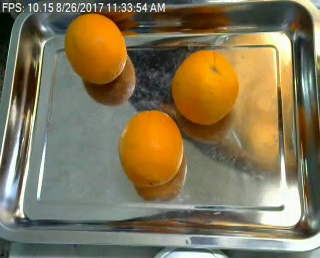Orange: (119, 110, 184, 189), (172, 48, 239, 123), (65, 12, 127, 84)
